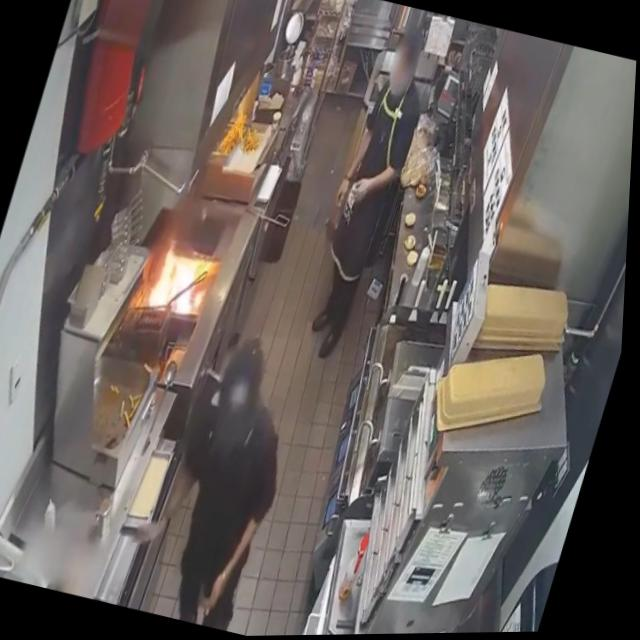fire: (143, 238, 223, 320)
